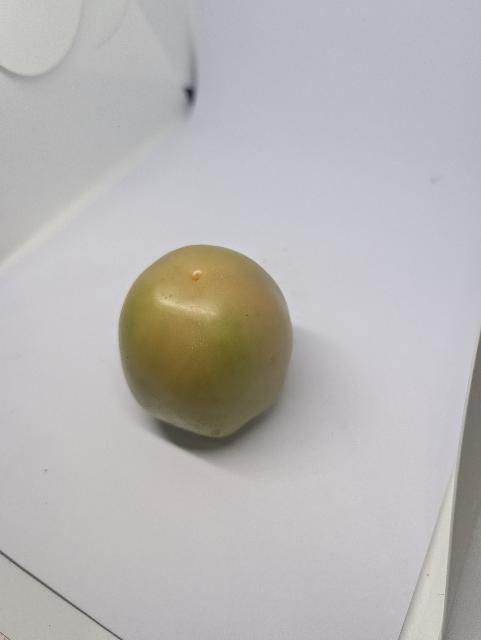breaker: (119, 245, 293, 438)
